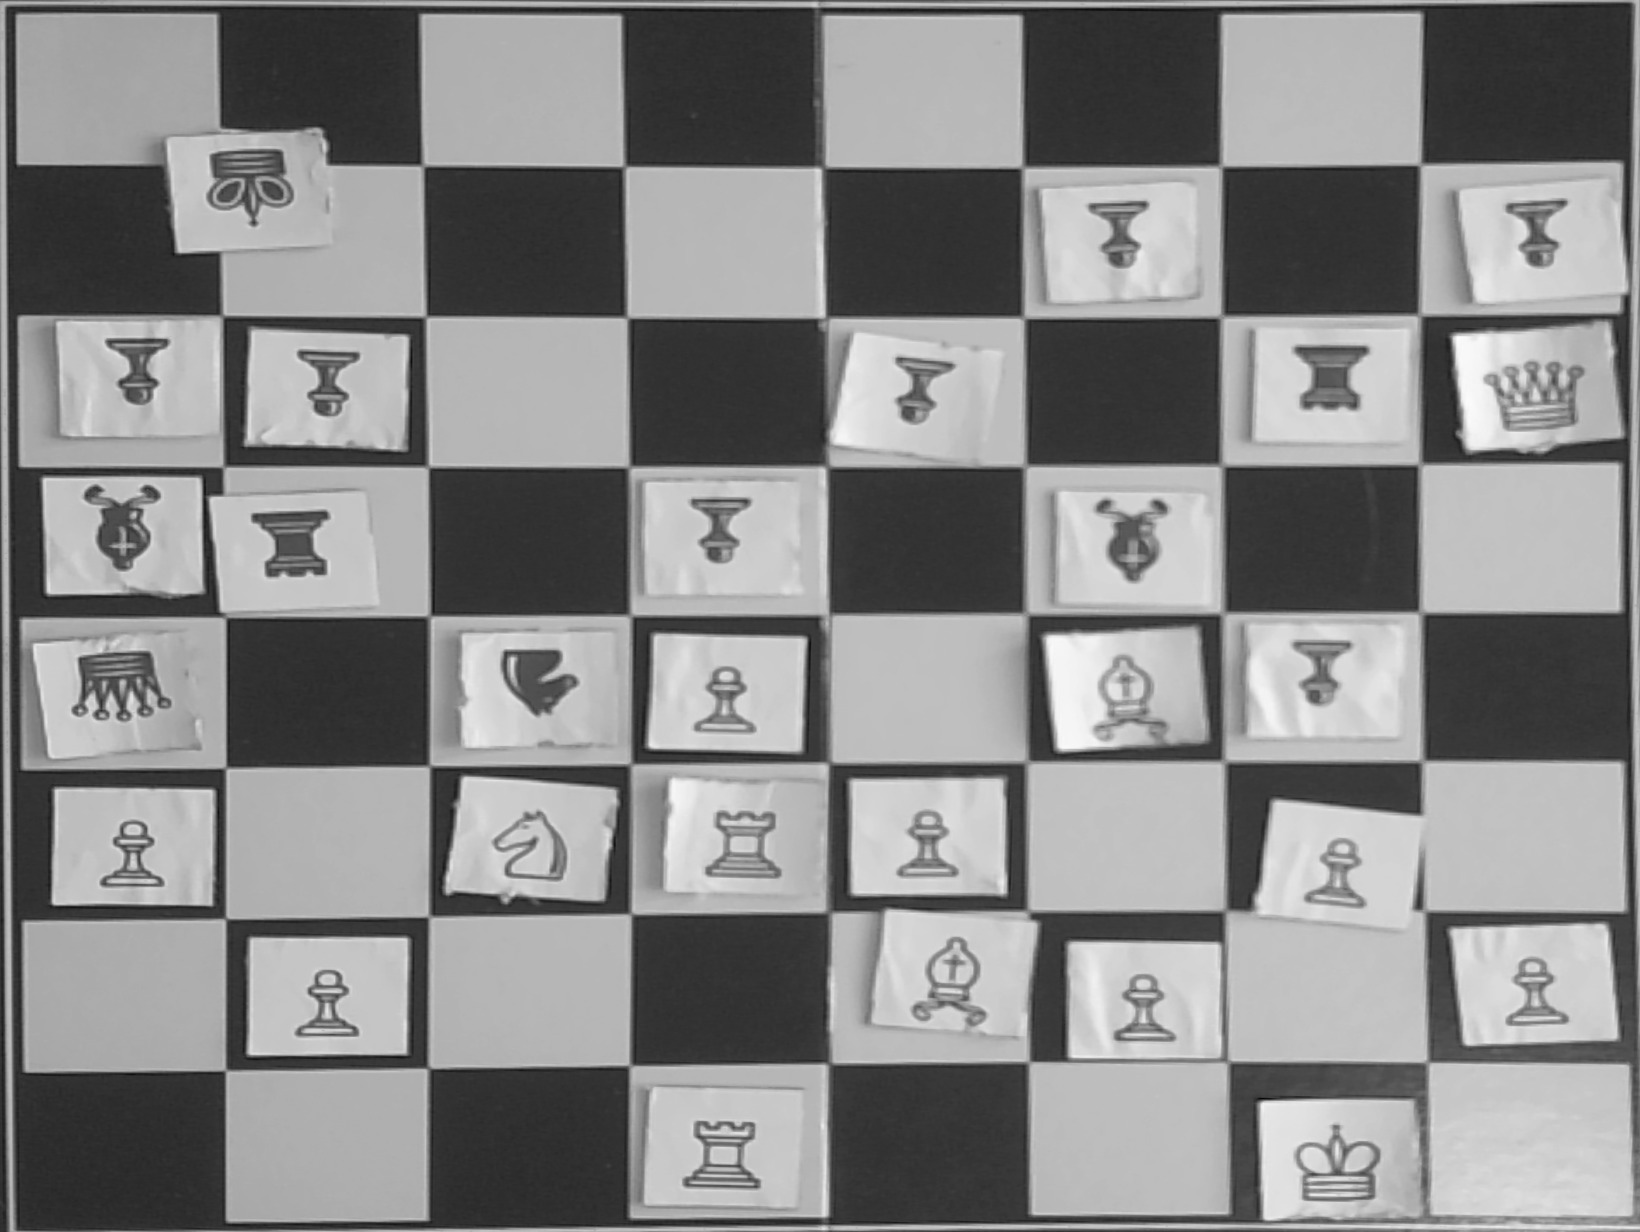b_bishop: (49, 479, 195, 589), (1055, 492, 1200, 602)
b_king: (183, 138, 312, 239)
b_knight: (474, 644, 601, 740)
b_pawn: (273, 333, 396, 437), (1269, 632, 1391, 736), (858, 348, 982, 452), (656, 490, 781, 594)
b_queen: (54, 646, 185, 742)
b_rook: (228, 502, 359, 603), (1265, 333, 1395, 434)
w_bishop: (1064, 641, 1184, 745), (897, 924, 1017, 1028)
w_king: (1275, 1110, 1406, 1210)
w_knight: (483, 793, 607, 890)
w_pawn: (661, 646, 770, 744), (871, 792, 979, 890), (1283, 824, 1391, 921)
w_queen: (1464, 340, 1606, 443)
w_rook: (654, 1100, 773, 1206), (676, 786, 795, 890)
